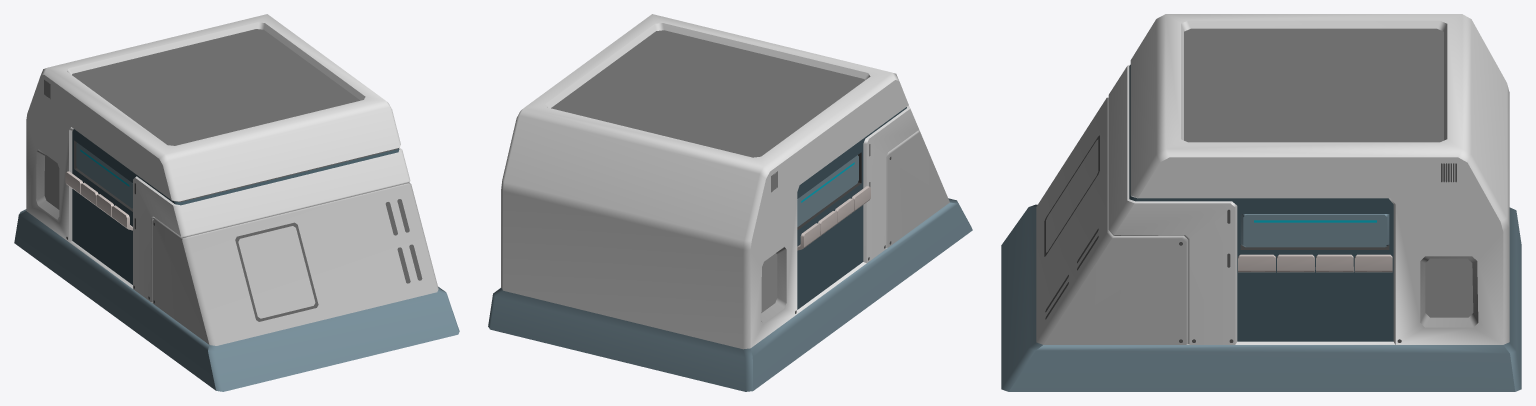
File: space_station_002.fbx
3 views of the same model, side by side, from view 1: azimuth 30°, elevation 25°; view 2: azimuth 150°, elevation 25°; view 3: azimuth 270°, elevation 25° (orthographic). The views are drawn at different scales.
Visible parts, largest first — view 1: space_station_002; view 2: space_station_002; view 3: space_station_002.
Boxes of the visible parts, x1,y1,x2,y2 form: space_station_002: (14, 14, 459, 391); space_station_002: (488, 14, 972, 391); space_station_002: (1001, 14, 1521, 391).
Bounding box in the file's own units: 1704 × 2512 × 1257.
